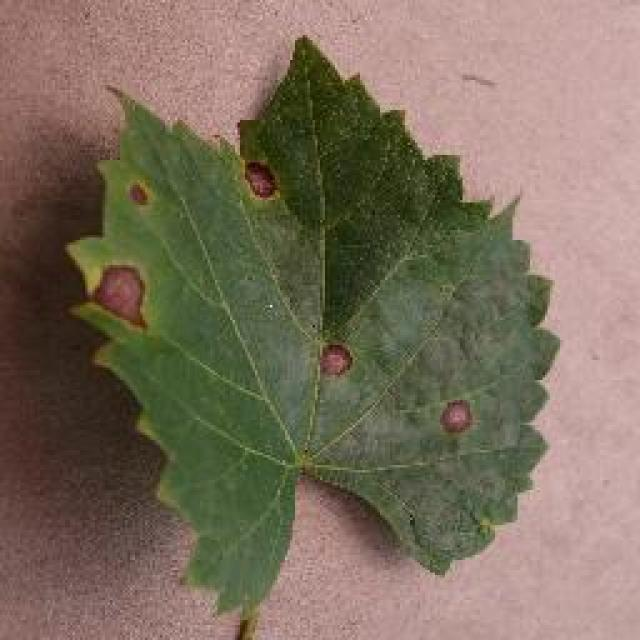Grape___Black_rot: (56, 30, 568, 630)
